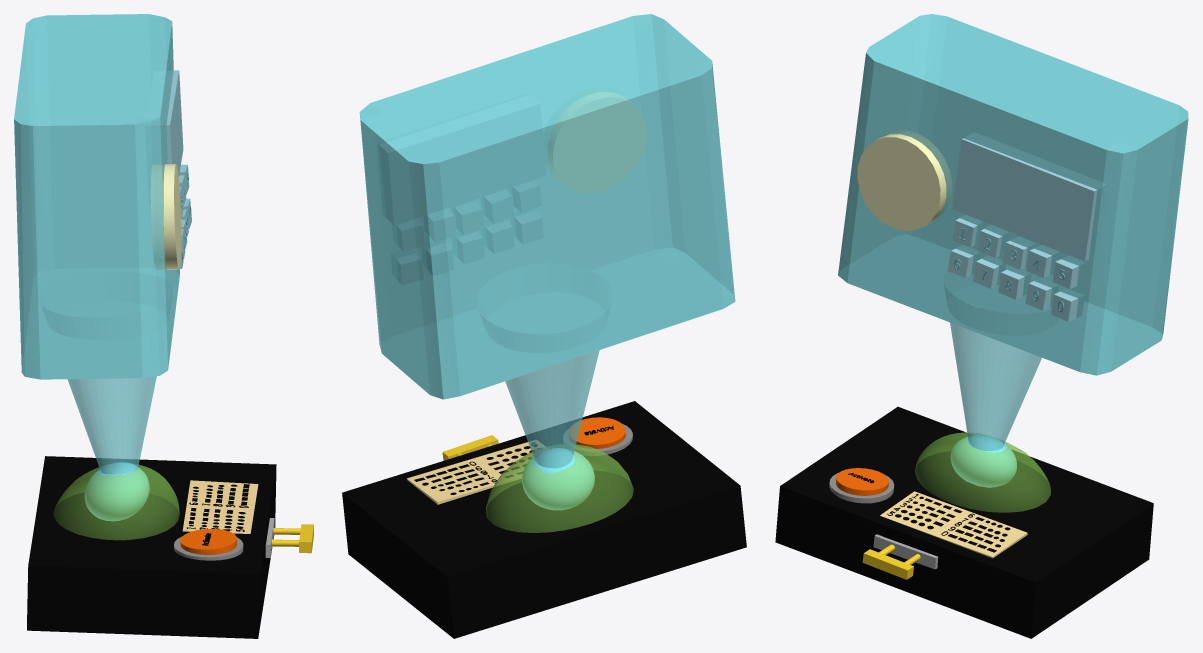
The model's file is morse code hologram puzzle lock.fbx.
The picture shows the model from 3 angles, left to right: view 1: azimuth 30°, elevation 25°; view 2: azimuth 150°, elevation 25°; view 3: azimuth 270°, elevation 25°; orthographic projection. The views are drawn at different scales.
Parts seen in each view (by area): view 1: 81a83324-3750-4358-a67b-32d5b2b108ca; view 2: 81a83324-3750-4358-a67b-32d5b2b108ca; view 3: 81a83324-3750-4358-a67b-32d5b2b108ca.
Boxes of the visible parts, bbox=[...] form: 81a83324-3750-4358-a67b-32d5b2b108ca: bbox=[14, 14, 313, 638]; 81a83324-3750-4358-a67b-32d5b2b108ca: bbox=[342, 14, 746, 638]; 81a83324-3750-4358-a67b-32d5b2b108ca: bbox=[775, 14, 1188, 638].
Bounding box in the file's own units: 72766 × 111794 × 85573.
